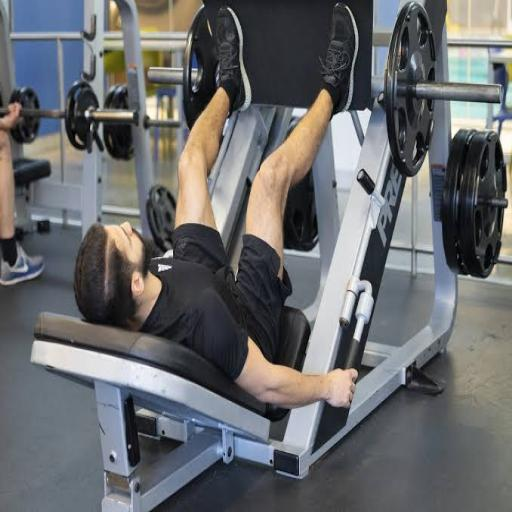Leg Press: (43, 4, 436, 434)
